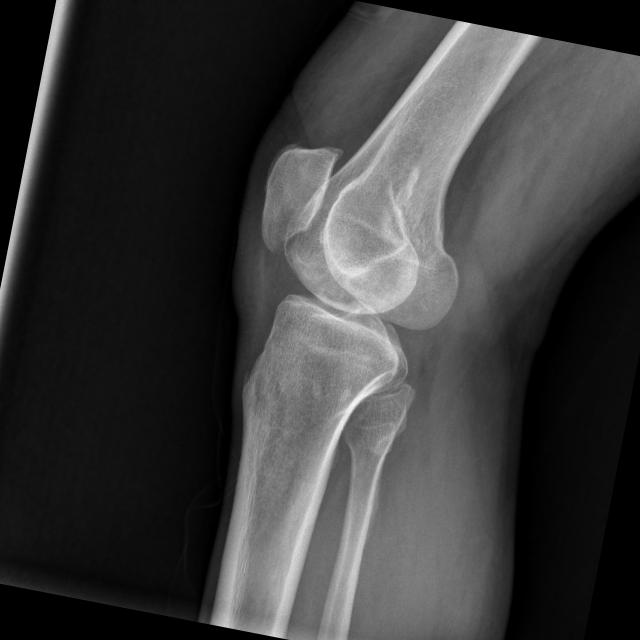Knee: (226, 134, 487, 422)
